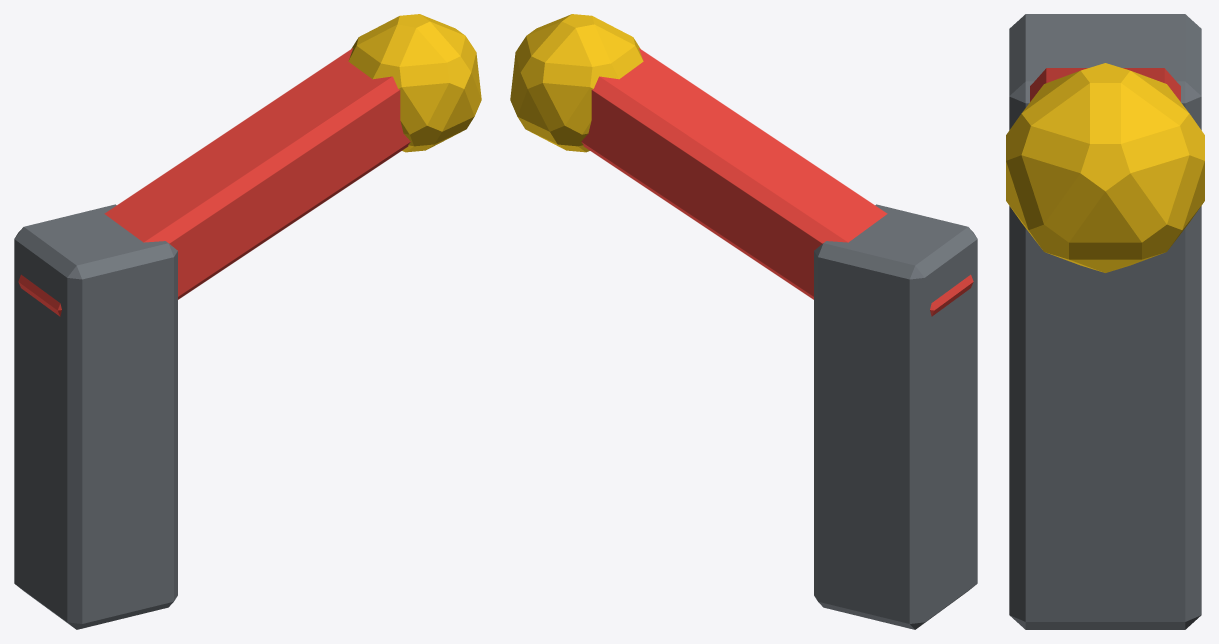
Rendered from lever.glb.
3 renders of one model, left to right at view 1: azimuth 30°, elevation 25°; view 2: azimuth 150°, elevation 25°; view 3: azimuth 270°, elevation 25°, orthographic. The views are drawn at different scales.
Visible parts, largest first — view 1: lever; view 2: lever; view 3: lever.
Boxes of the visible parts, x1,y1,x2,y2 form: lever: (14, 14, 481, 629); lever: (510, 14, 977, 629); lever: (1006, 14, 1204, 629).
Size of the model in its own units: 0.2747 by 0.3027 by 0.0723.
